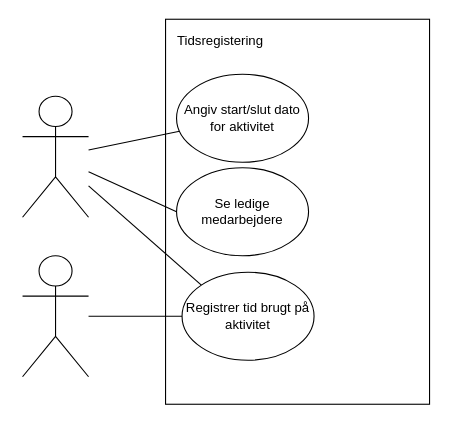
Image size: 449x424. Some labels were removed from this diagram. Each missing label, with the centre of its shape:
Medarbejder: point (55, 316)
Projektleder: point (55, 156)
